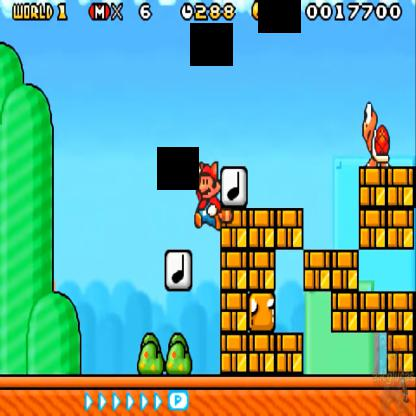Mario: (189, 162, 222, 228)
koopa: (359, 101, 394, 167)
moneda: (250, 0, 265, 24)
